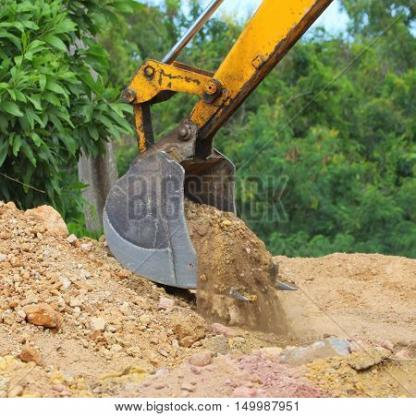excavator: (88, 3, 355, 314)
